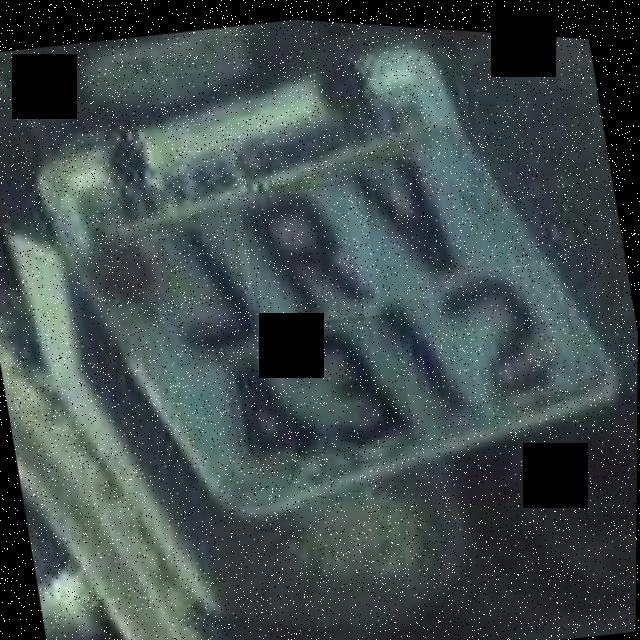1: (364, 281, 484, 427)
2: (422, 243, 580, 405)
3: (274, 301, 416, 459)
4: (193, 316, 355, 502)
J: (151, 197, 282, 372)
P: (229, 171, 384, 332)
R: (236, 170, 367, 333)
